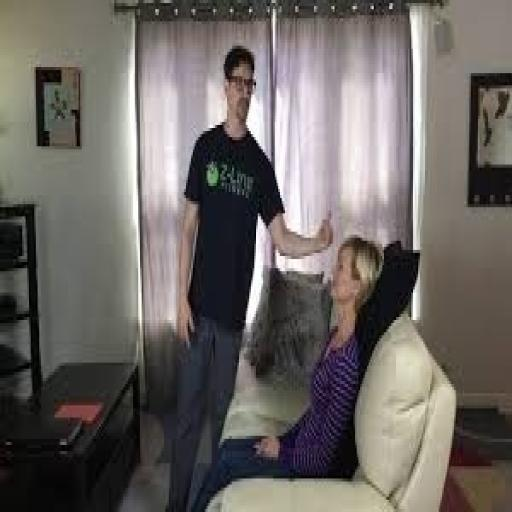sitting: (191, 232, 384, 506)
